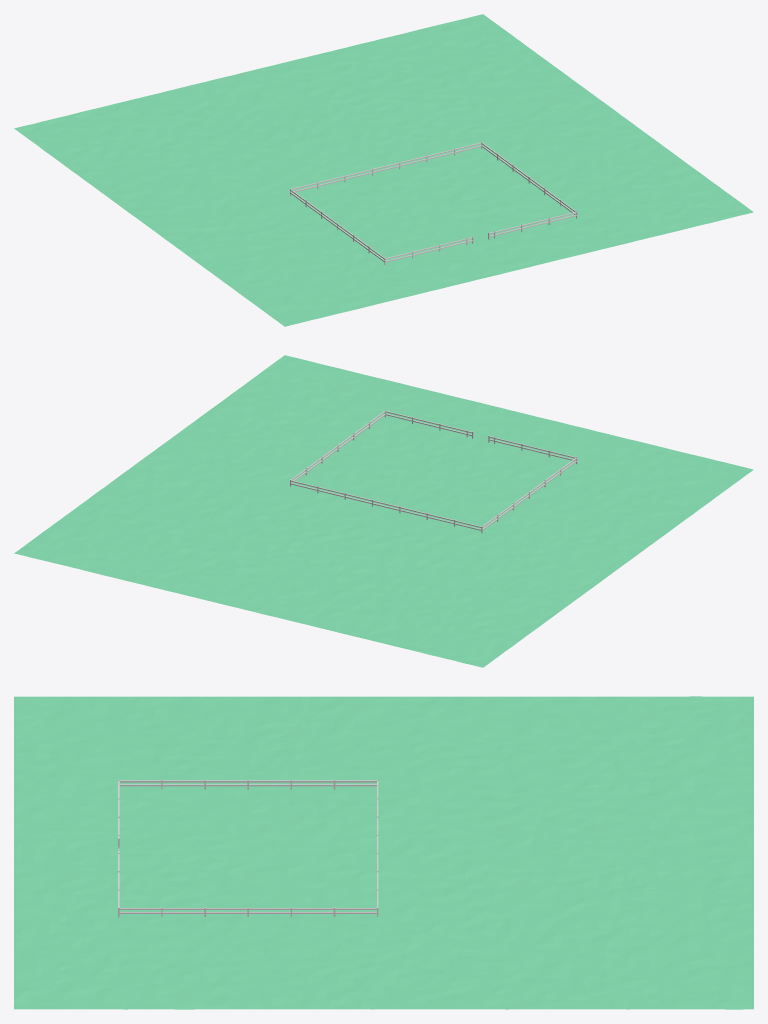
The model's file is arena.glb.
3 views of the same model, one above another, from view 1: azimuth 30°, elevation 25°; view 2: azimuth 150°, elevation 25°; view 3: azimuth 270°, elevation 25° (orthographic). The views are drawn at different scales.
Parts seen in each view (by area): view 1: ground; view 2: ground; view 3: ground.
Part boxes in pixels (box(x1,y1,x2,y2)): ground: box(14, 14, 753, 326); ground: box(14, 355, 753, 667); ground: box(14, 696, 753, 1009).
Size of the model in its own units: 137 by 2.18 by 137.
